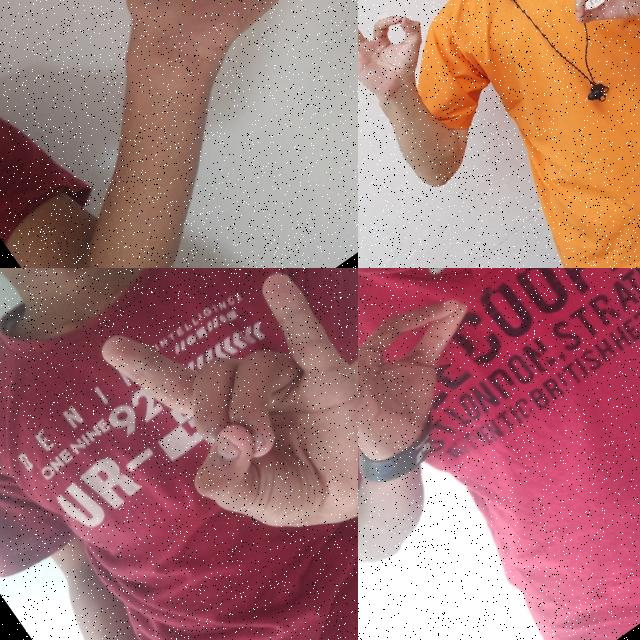Corna: (82, 268, 358, 604)
Moutza: (50, 0, 358, 129)
Okay: (358, 268, 537, 505), (358, 0, 456, 127), (542, 0, 640, 65)
